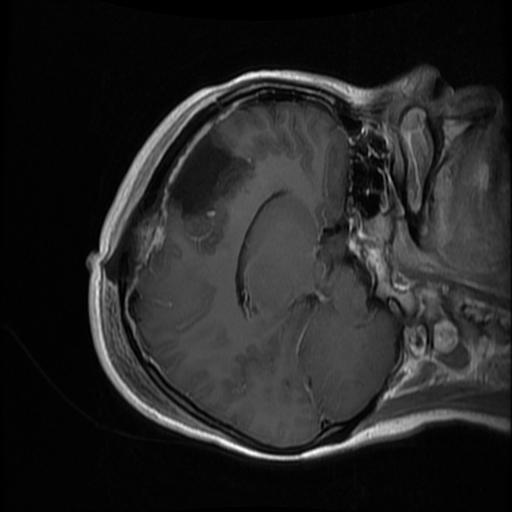glioma: (170, 130, 257, 253)
